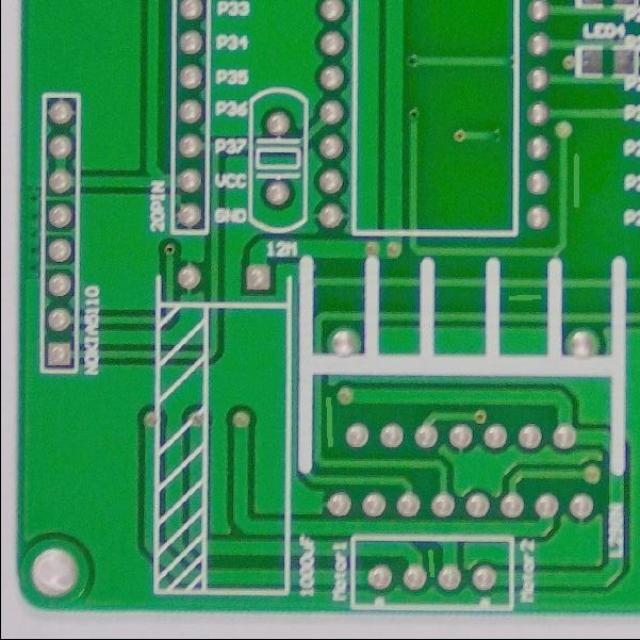spurious_copper: (318, 388, 345, 456), (561, 148, 588, 213), (503, 287, 544, 314), (417, 544, 442, 586)
